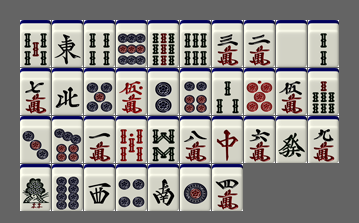0m: (116, 68, 147, 115)
0p: (244, 68, 275, 115)
0s: (116, 116, 147, 163)
1m: (84, 116, 115, 163)
1p: (180, 164, 211, 211)
1s: (20, 164, 51, 211)
1z: (52, 20, 83, 67)
2m: (244, 20, 275, 67)
2p: (148, 68, 179, 115)
2s: (308, 20, 339, 67)
2z: (148, 164, 179, 211)
3m: (212, 20, 243, 67)
3p: (20, 116, 51, 163)
3s: (212, 68, 243, 115)
3z: (84, 164, 115, 211)
4m: (212, 164, 243, 211)
4p: (116, 164, 147, 211)
4s: (84, 20, 115, 67)
4z: (52, 68, 83, 115)
5m: (276, 68, 307, 115)
5p: (84, 68, 115, 115)
5s: (20, 20, 51, 67)
5z: (276, 20, 307, 67)
6m: (244, 116, 275, 163)
6p: (180, 68, 211, 115)
6s: (180, 20, 211, 67)
6z: (276, 116, 307, 163)
7m: (20, 68, 51, 115)
7p: (52, 116, 83, 163)
7s: (308, 68, 339, 115)
7z: (212, 116, 243, 163)
8m: (180, 116, 211, 163)
8p: (52, 164, 83, 211)
8s: (148, 116, 179, 163)
9m: (308, 116, 339, 163)
9p: (116, 20, 147, 67)
9s: (148, 20, 179, 67)
